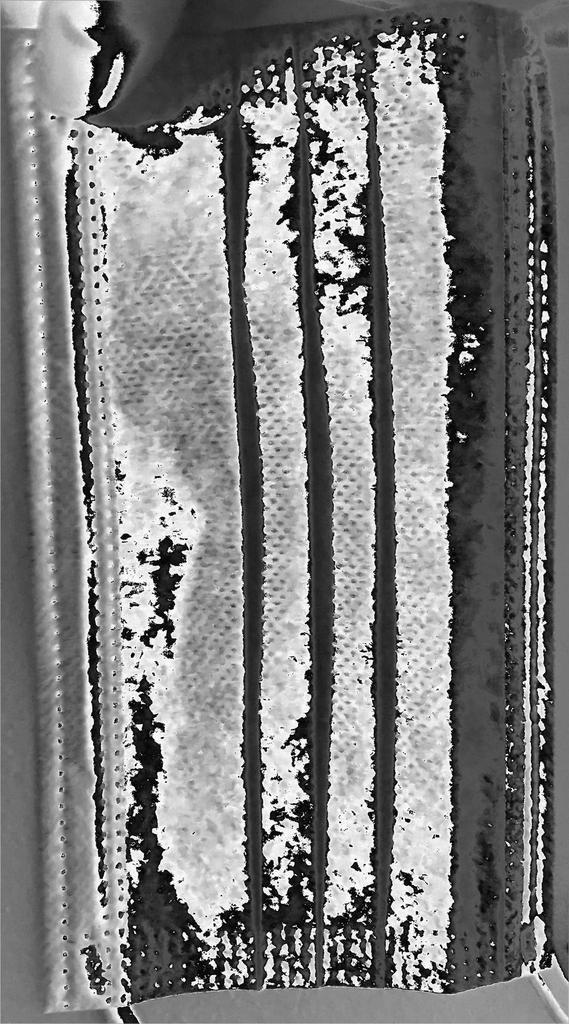High GSM: (112, 121, 447, 1011)
